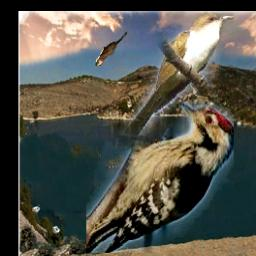Cuckoo: (115, 13, 234, 148), (94, 32, 127, 67)
Woodpecker: (86, 102, 234, 253)
